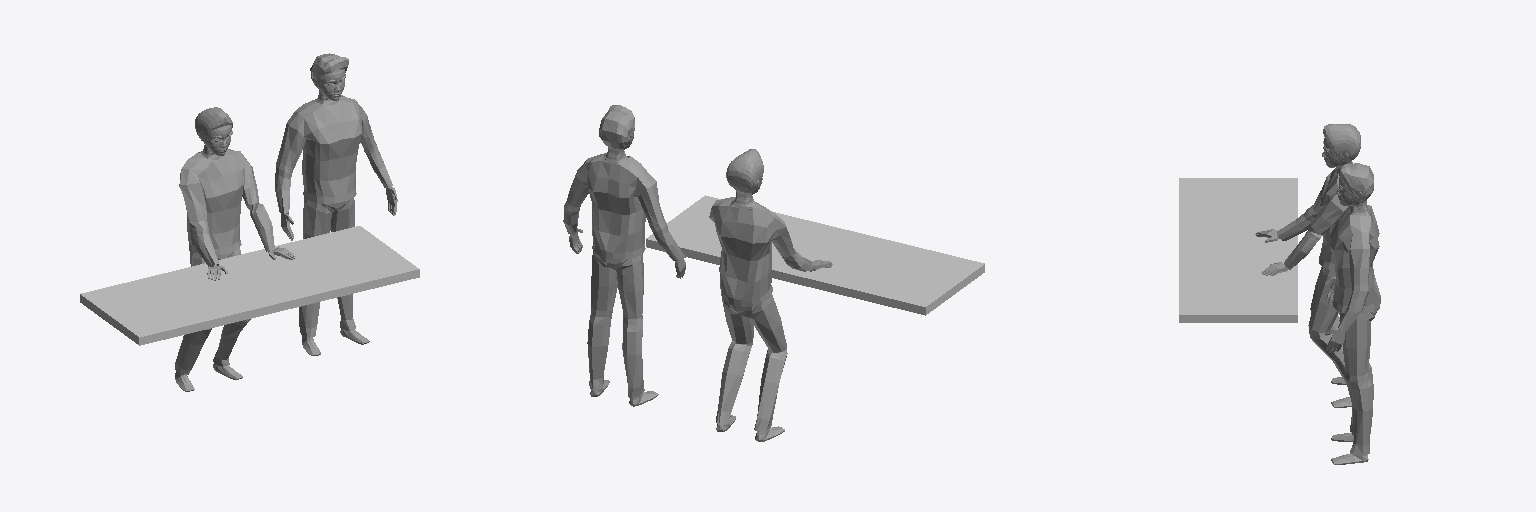
File: hooman3.obj
The picture shows the model from 3 angles: view 1: azimuth 30°, elevation 25°; view 2: azimuth 150°, elevation 25°; view 3: azimuth 270°, elevation 25°; orthographic projection.
Visible parts, largest first — view 1: Plane.001_Plane.002, Cube.008, Cube.002_Cube.009, Cube.003_Cube.010, Cube, Plane, Cube.007; view 2: Cube.008, Plane.001_Plane.002, Cube.002_Cube.009, Cube.003_Cube.010, Cube.007, Plane, Cube; view 3: Plane.001_Plane.002, Cube.008, Cube.002_Cube.009, Cube.003_Cube.010, Cube, Plane, Cube.007.
Part boxes in pixels (left/top/right/bottom): Plane.001_Plane.002: left=80, top=226, right=419, bottom=345; Cube.008: left=275, top=69, right=397, bottom=355; Cube.002_Cube.009: left=179, top=149, right=274, bottom=266; Cube.003_Cube.010: left=175, top=248, right=250, bottom=374; Cube: left=175, top=125, right=295, bottom=391; Plane: left=195, top=107, right=232, bottom=137; Cube.007: left=310, top=53, right=348, bottom=81; Cube.008: left=563, top=134, right=685, bottom=406; Plane.001_Plane.002: left=646, top=195, right=984, bottom=315; Cube.002_Cube.009: left=709, top=197, right=811, bottom=306; Cube.003_Cube.010: left=716, top=294, right=787, bottom=430; Cube.007: left=599, top=105, right=634, bottom=148; Plane: left=726, top=149, right=763, bottom=190; Cube: left=716, top=178, right=832, bottom=441; Plane.001_Plane.002: left=1179, top=178, right=1297, bottom=322; Cube.008: left=1325, top=177, right=1380, bottom=464; Cube.002_Cube.009: left=1277, top=167, right=1366, bottom=271; Cube.003_Cube.010: left=1308, top=267, right=1346, bottom=383; Cube: left=1255, top=138, right=1352, bottom=407; Plane: left=1323, top=124, right=1360, bottom=159; Cube.007: left=1339, top=163, right=1373, bottom=200.
Bounding box in the file's own units: 2.38 × 1.99 × 1.25.